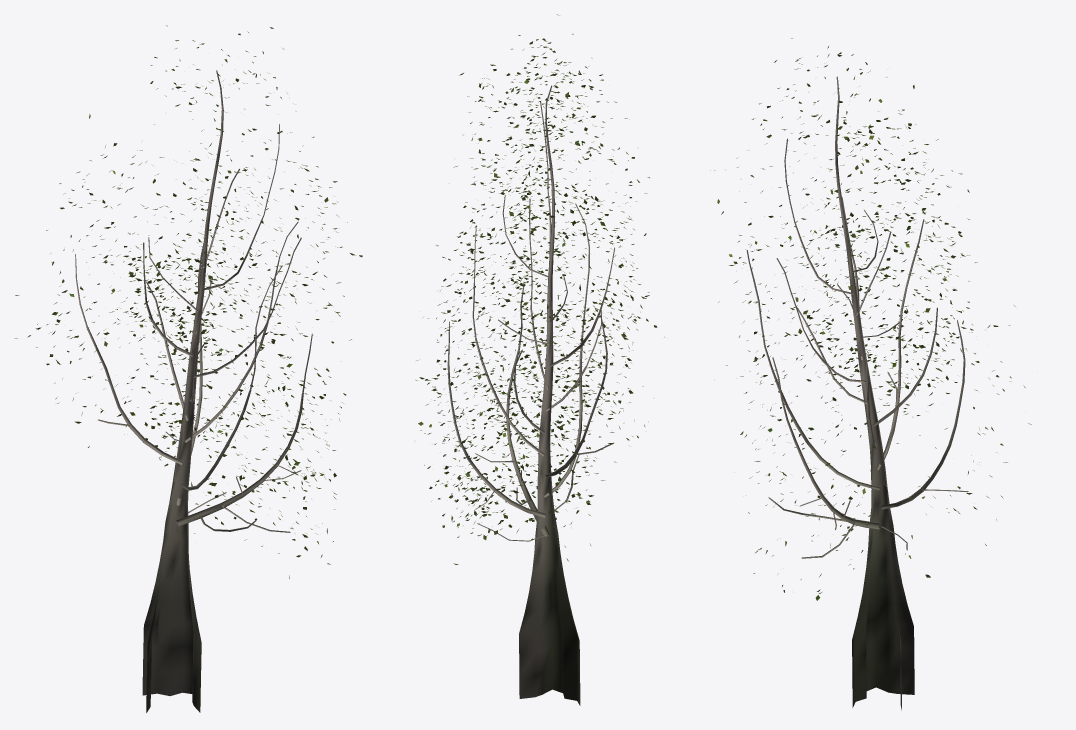
Rendered from SM_Tree_garden_tree_3.glb.
The picture shows the model from 3 angles, left to right: view 1: azimuth 30°, elevation 25°; view 2: azimuth 150°, elevation 25°; view 3: azimuth 270°, elevation 25°; orthographic projection. The views are drawn at different scales.
Visible parts, largest first — view 1: SM_Tree_garden_tree_3; view 2: SM_Tree_garden_tree_3; view 3: SM_Tree_garden_tree_3.
Part boxes in pixels (left/top/right/bottom): SM_Tree_garden_tree_3: left=14, top=25, right=362, bottom=712; SM_Tree_garden_tree_3: left=415, top=14, right=664, bottom=705; SM_Tree_garden_tree_3: left=710, top=38, right=1031, bottom=710.
Bounding box in the file's own units: 3.35 × 7.91 × 3.74.
